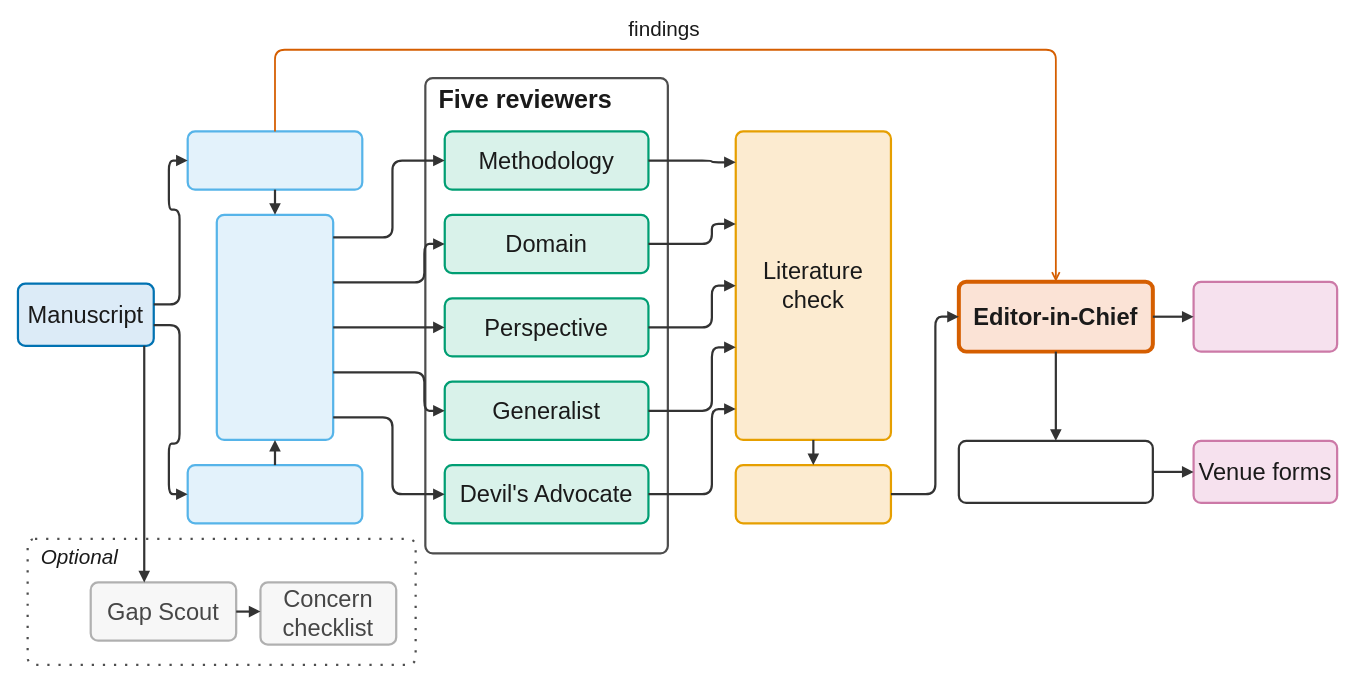
Image size: 1355x683. Some labels were removed from this diagram. The shapes that lost their labels are listed below. From the top down, each one's box as (x1, y1, x2, y2) in pixels, then its label:
(186, 130, 363, 190): Integrity scan
(215, 213, 334, 441): Reviewer packet
(1192, 280, 1338, 352): Decision letter
(957, 439, 1154, 504): Score script
(186, 464, 363, 524): Field analysis
(734, 464, 892, 524): Report check
